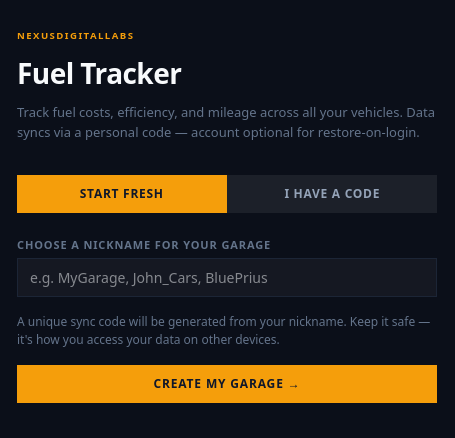
Test: FuelTrackerClient — onboarding screen › shows an error when "Create My Garage" is clicked without a nickname
The width and height of the screenshot is (455, 438).
Click the button "Create My Garage →": (227, 384) [17, 365, 437, 403]
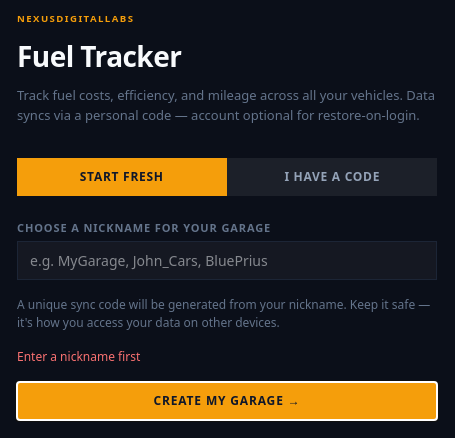
Result: the text "Enter a nickname first" is shown at [17, 348, 140, 365]
